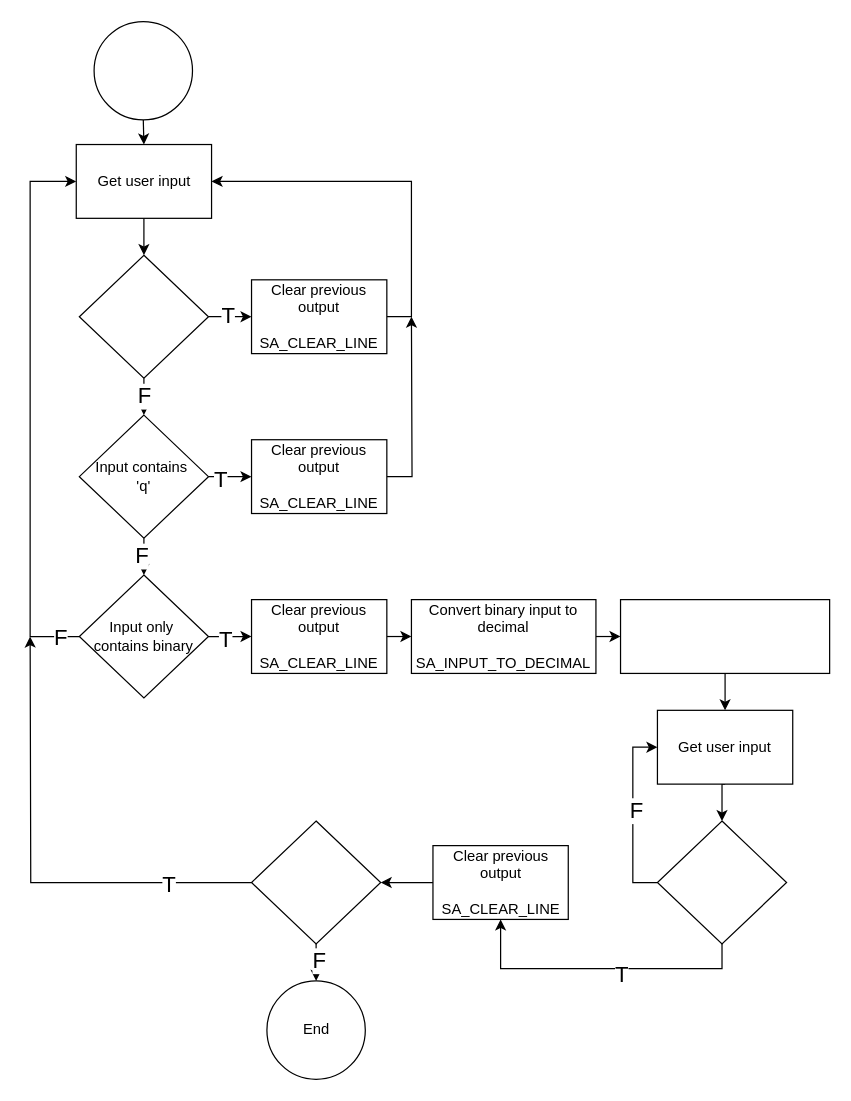
This 851x1101 diagram has some shape labels left out. Here are the shapes that lost their labels. From the top down, the box of each, then its label:
(93, 20, 192, 120): Start
(78, 254, 208, 378): Input contains 'c'
(619, 598, 830, 673): Print final conversion SA_PRINT_COMPLETE_LINE
(250, 820, 381, 944): Input contained 'c' first
(656, 820, 787, 944): Input contains 'q' or 'c'
